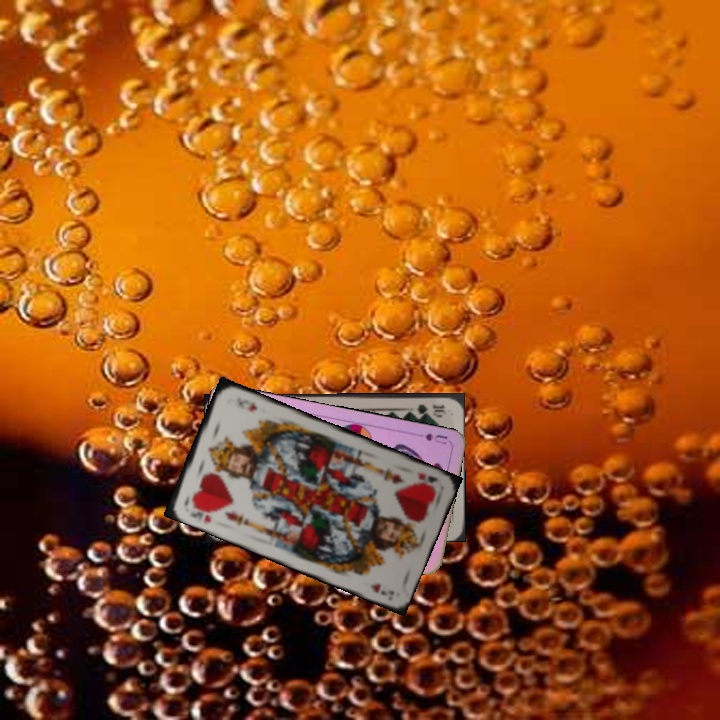G10: (412, 400, 448, 416)
HK: (186, 500, 214, 526), (412, 468, 441, 485)
SU: (410, 429, 450, 447)
